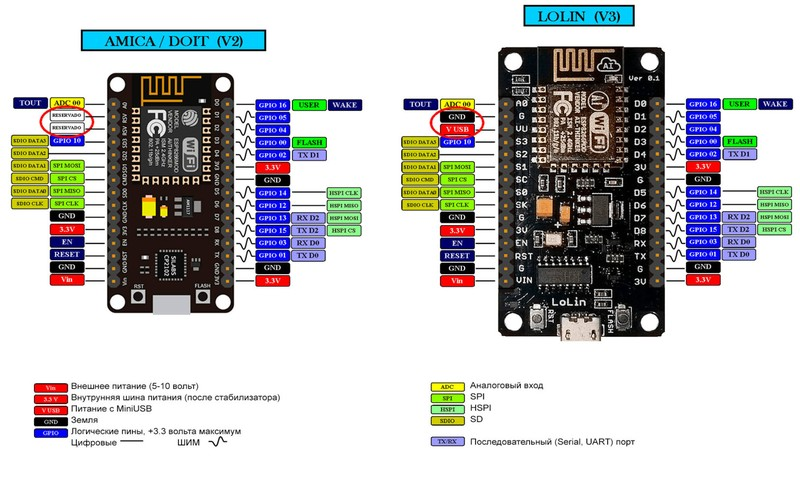IoT Sensor: (490, 33, 672, 347), (99, 64, 242, 318)
